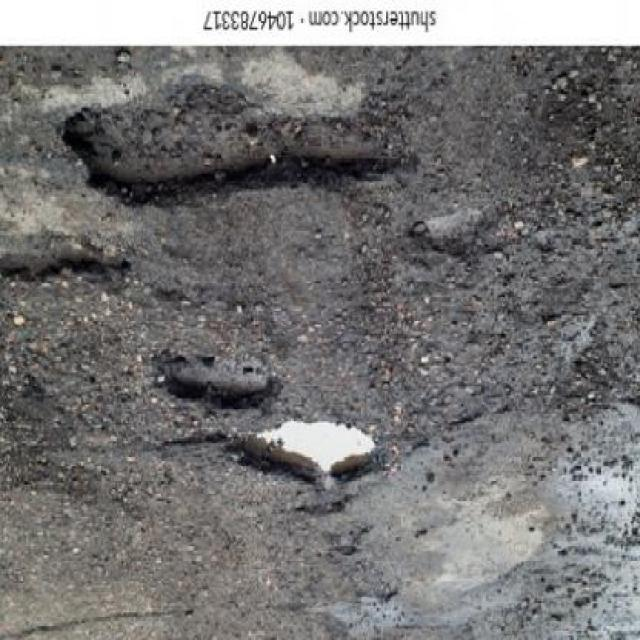pothole: (39, 73, 421, 224), (222, 402, 404, 530), (2, 212, 142, 302), (149, 350, 289, 412)
